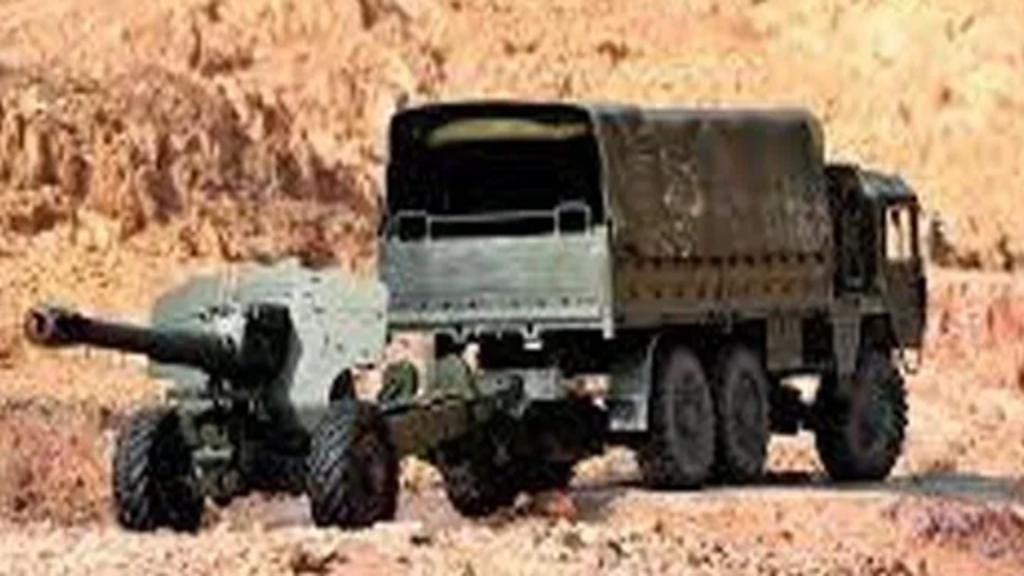ART: (20, 263, 410, 528)
TRUCK: (380, 93, 932, 490)
